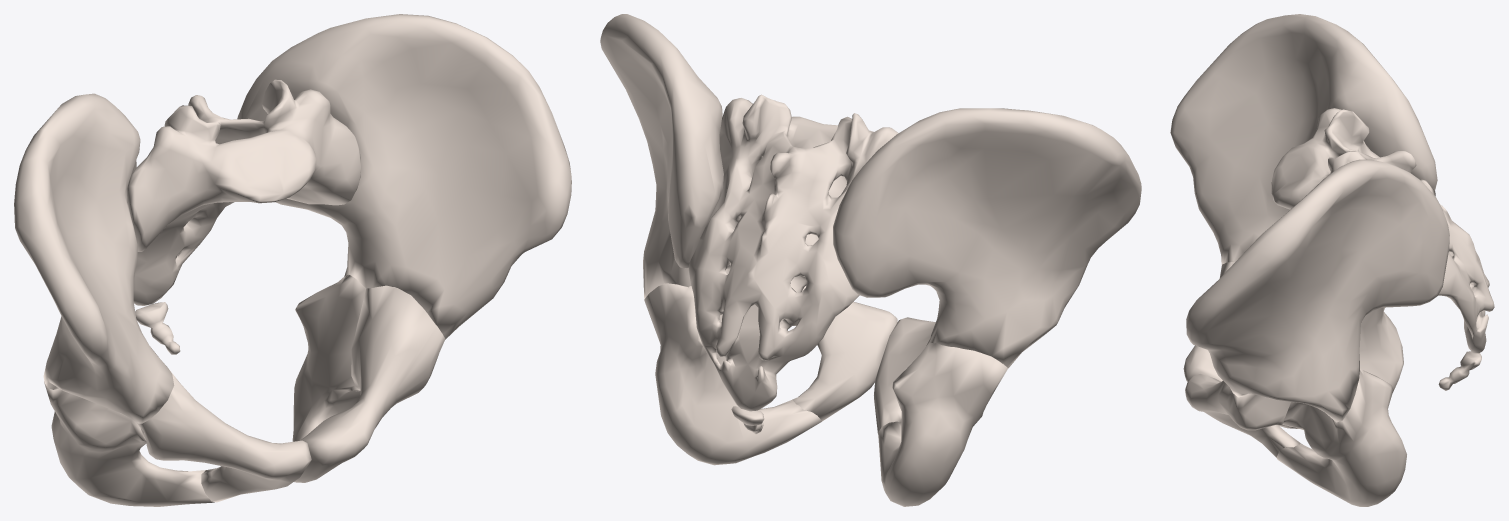
File: vh_m_pelvis-20.glb
3 renders of one model, left to right at view 1: azimuth 30°, elevation 25°; view 2: azimuth 150°, elevation 25°; view 3: azimuth 270°, elevation 25°, orthographic. The views are drawn at different scales.
Visible parts, largest first — view 1: VH_M_ilium_compact_bone_L, VH_M_ilium_compact_bone_R, VH_M_sacrum, VH_M_pubis_compact_bone_L, VH_M_ischium_compact_bone_R, VH_M_pubis_compact_bone_R, VH_M_ischium_compact_bone_L, VH_M_coccyx; view 2: VH_M_ilium_compact_bone_R, VH_M_sacrum, VH_M_ilium_compact_bone_L, VH_M_ischium_compact_bone_L, VH_M_ischium_compact_bone_R, VH_M_pubis_compact_bone_L, VH_M_pubis_compact_bone_R; view 3: VH_M_ilium_compact_bone_L, VH_M_ilium_compact_bone_R, VH_M_ischium_compact_bone_L, VH_M_sacrum, VH_M_pubis_compact_bone_L, VH_M_ischium_compact_bone_R, VH_M_pubis_compact_bone_R, VH_M_coccyx.
Boxes of the visible parts, x1=… form: VH_M_ilium_compact_bone_L: x1=237, y1=14, x2=571, y2=339; VH_M_ilium_compact_bone_R: x1=14, y1=93, x2=174, y2=423; VH_M_sacrum: x1=126, y1=79, x2=360, y2=305; VH_M_pubis_compact_bone_L: x1=294, y1=285, x2=445, y2=482; VH_M_ischium_compact_bone_R: x1=44, y1=381, x2=214, y2=506; VH_M_pubis_compact_bone_R: x1=137, y1=369, x2=311, y2=502; VH_M_ischium_compact_bone_L: x1=292, y1=274, x2=366, y2=441; VH_M_coccyx: x1=135, y1=302, x2=180, y2=354; VH_M_ilium_compact_bone_R: x1=833, y1=108, x2=1141, y2=368; VH_M_sacrum: x1=688, y1=94, x2=898, y2=411; VH_M_ilium_compact_bone_L: x1=600, y1=14, x2=723, y2=298; VH_M_ischium_compact_bone_L: x1=644, y1=268, x2=821, y2=465; VH_M_ischium_compact_bone_R: x1=878, y1=342, x2=1007, y2=506; VH_M_pubis_compact_bone_L: x1=792, y1=286, x2=897, y2=421; VH_M_pubis_compact_bone_R: x1=874, y1=317, x2=935, y2=434; VH_M_ilium_compact_bone_L: x1=1186, y1=159, x2=1449, y2=422; VH_M_ilium_compact_bone_R: x1=1170, y1=14, x2=1437, y2=265; VH_M_ischium_compact_bone_L: x1=1276, y1=368, x2=1406, y2=506; VH_M_sacrum: x1=1271, y1=108, x2=1494, y2=353; VH_M_pubis_compact_bone_L: x1=1185, y1=374, x2=1300, y2=457; VH_M_ischium_compact_bone_R: x1=1287, y1=307, x2=1403, y2=428; VH_M_pubis_compact_bone_R: x1=1183, y1=261, x2=1291, y2=427; VH_M_coccyx: x1=1438, y1=351, x2=1481, y2=390.
Bounding box in the file's own units: 0.2835 × 0.2186 × 0.1729.
